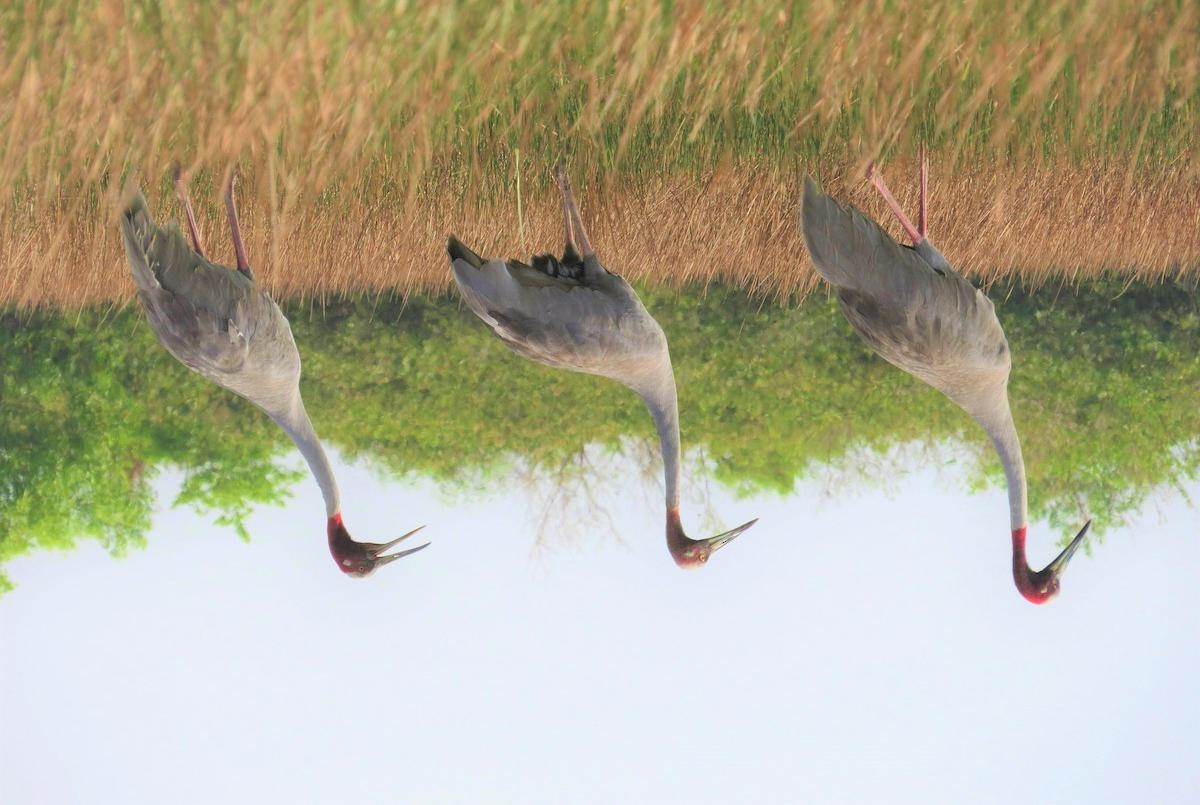crane: (101, 134, 433, 586), (800, 144, 1124, 605), (446, 150, 780, 585)
